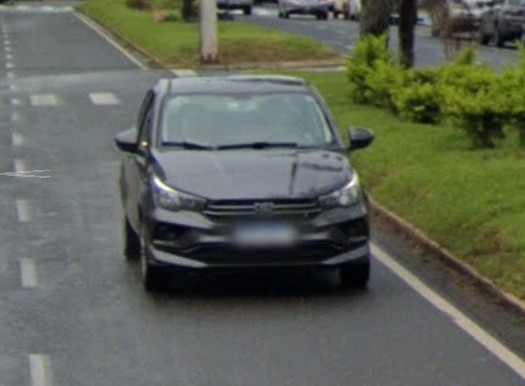car: (109, 67, 389, 302)
